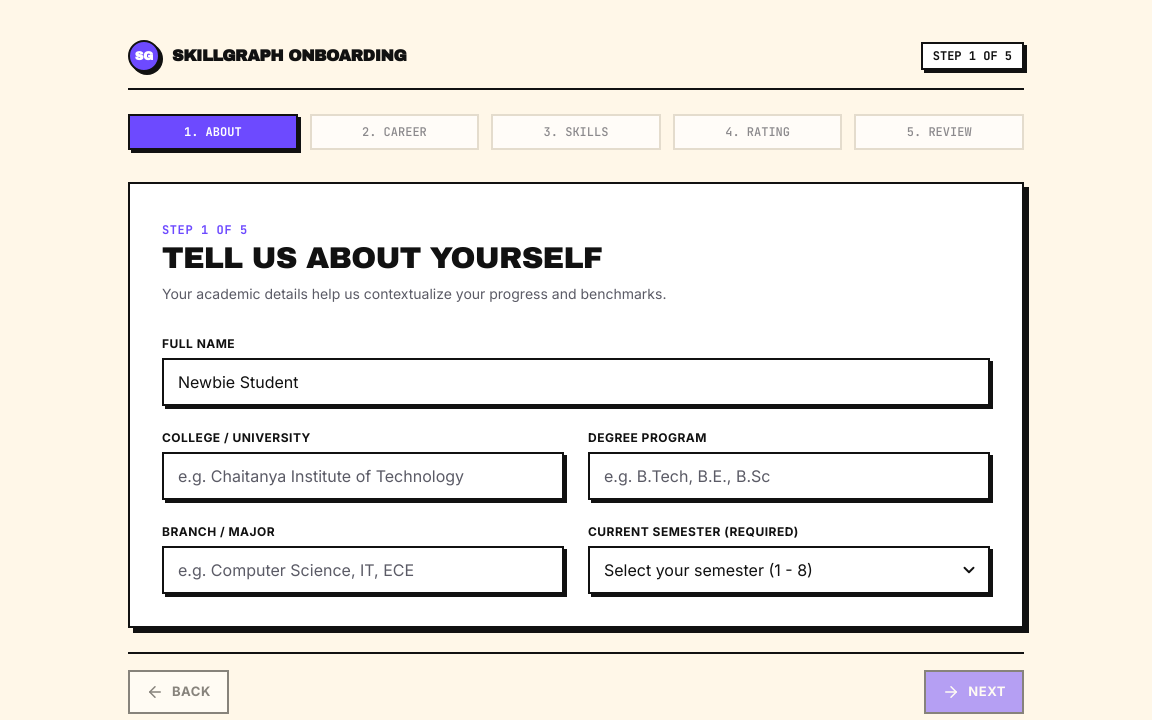
Test: OnboardingPage Wizard › Next is disabled on Career until a career is chosen
Fill semester on Step 1 to move to Step 2
Select "Semester 4" in the dropdown labelled "Current Semester (Required)" at (789, 570), box [588, 546, 990, 594]
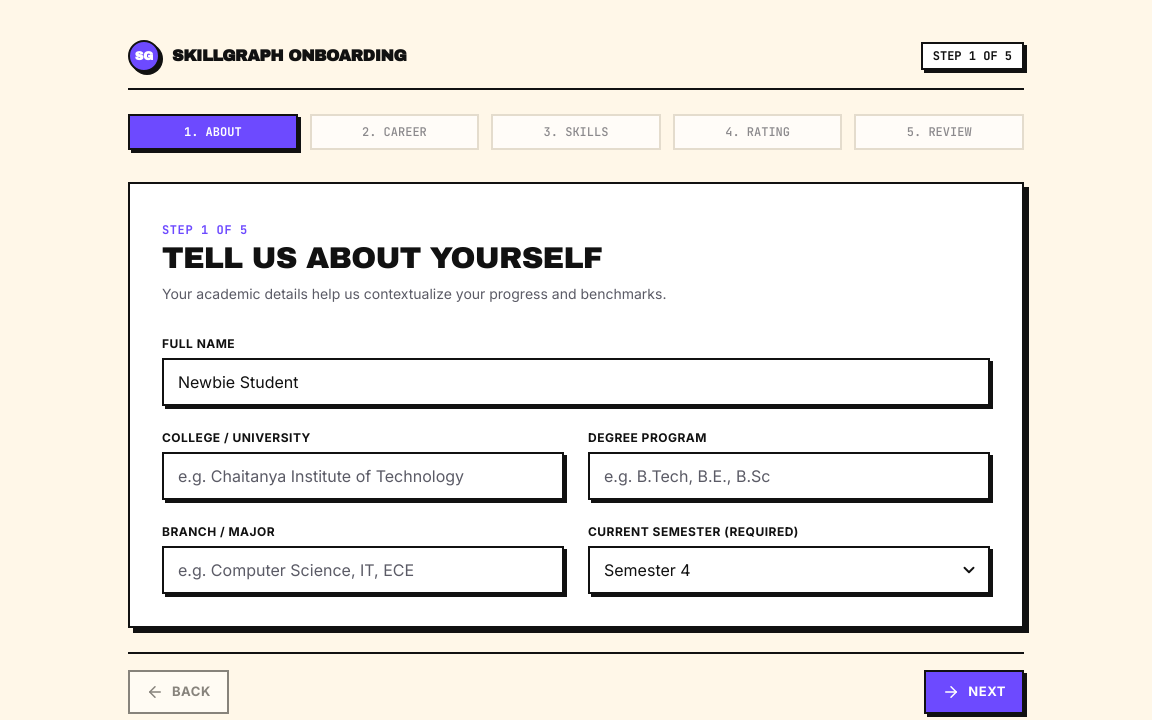
Click the button "NEXT" at (974, 692), box [924, 670, 1024, 714]
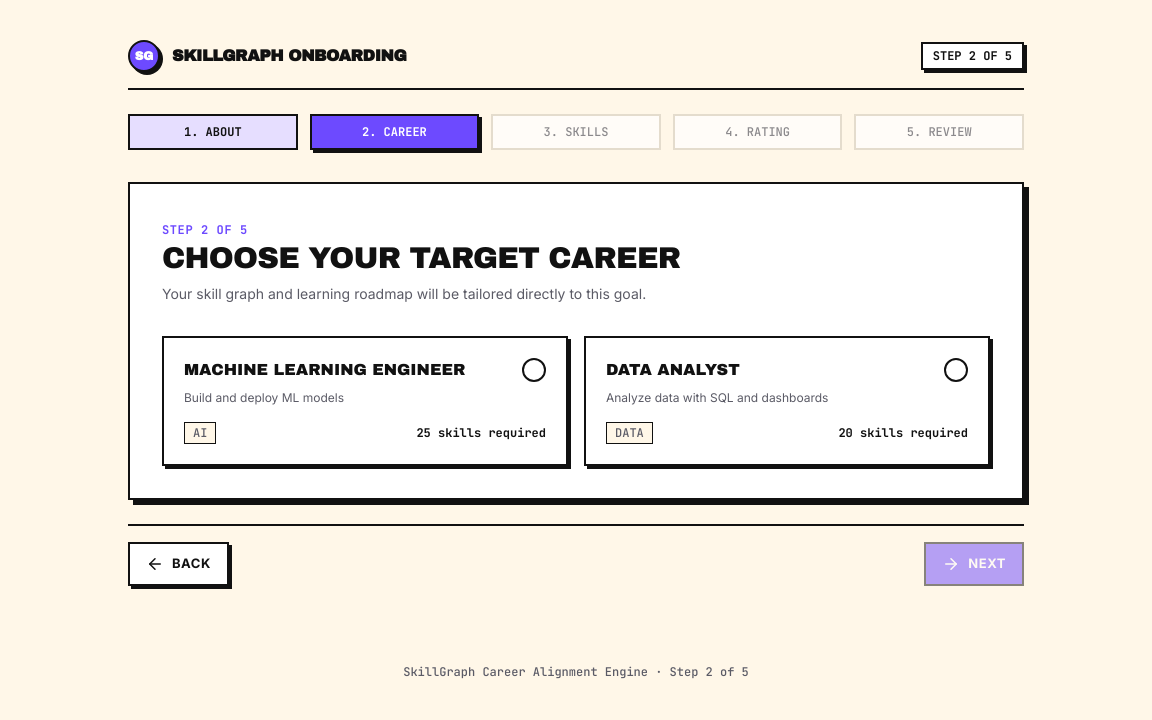
expect the heading "Choose Your Target Career" is shown: met, box [162, 242, 680, 274]
expect the button "NEXT" is disabled: met, box [924, 542, 1024, 586]
Select a career card
Click the heading "Machine Learning Engineer" at (325, 370), box [184, 358, 466, 382]
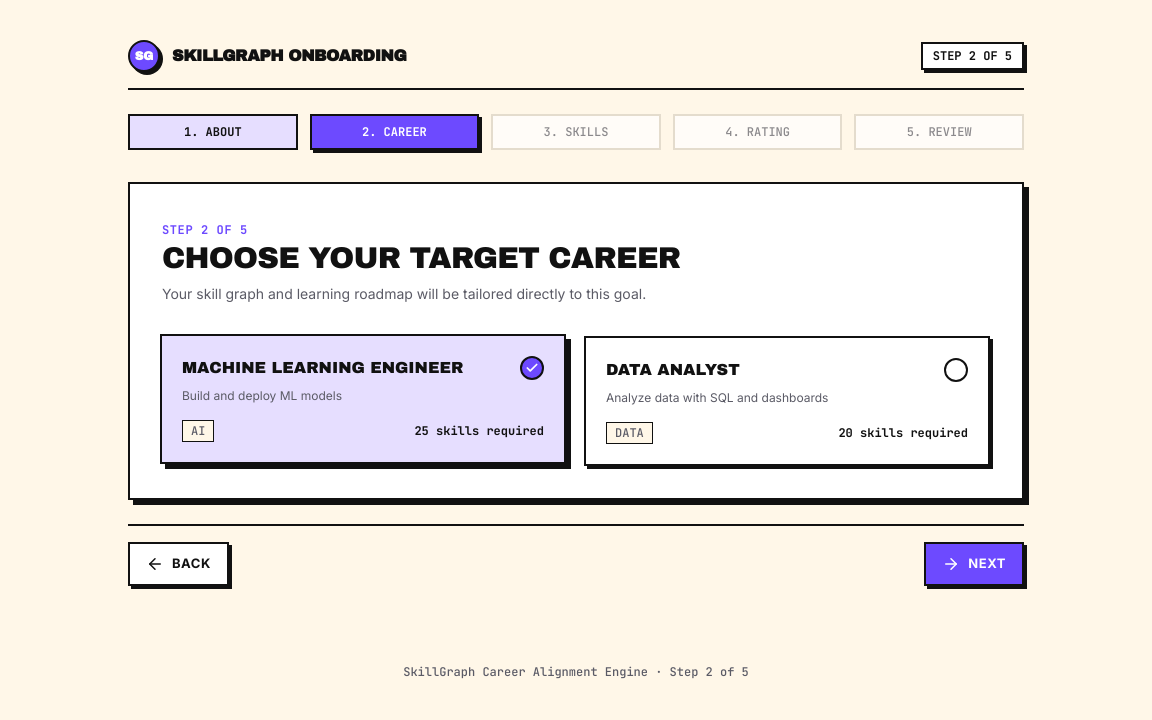
expect the button "NEXT" is enabled: met, box [924, 542, 1024, 586]
